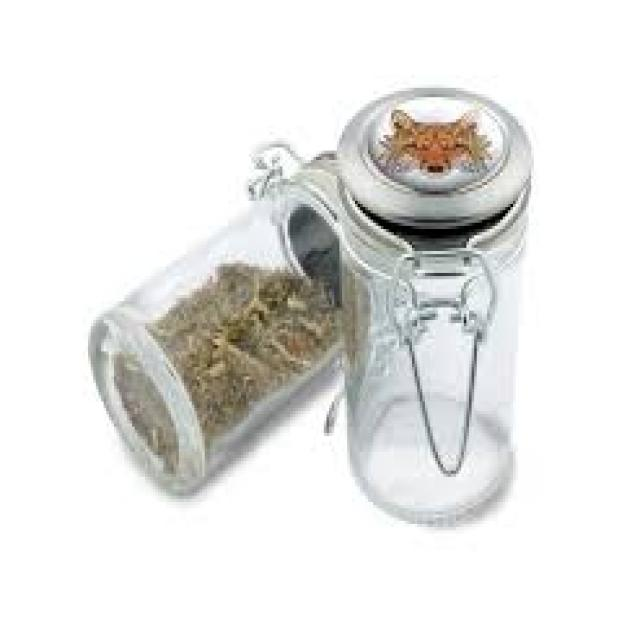organic waste: (111, 260, 337, 468)
